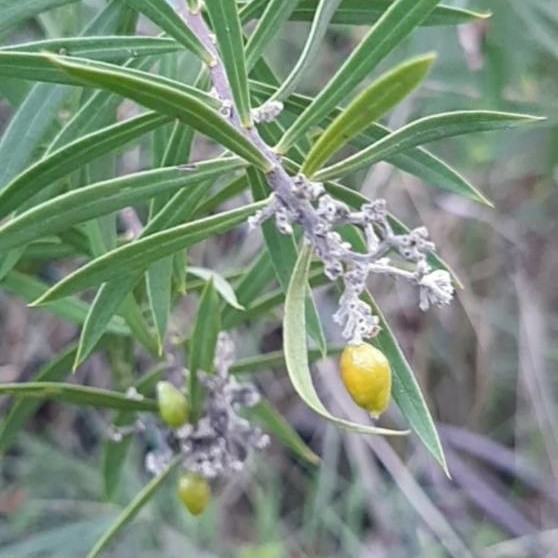obstacle: (41, 16, 494, 489)
